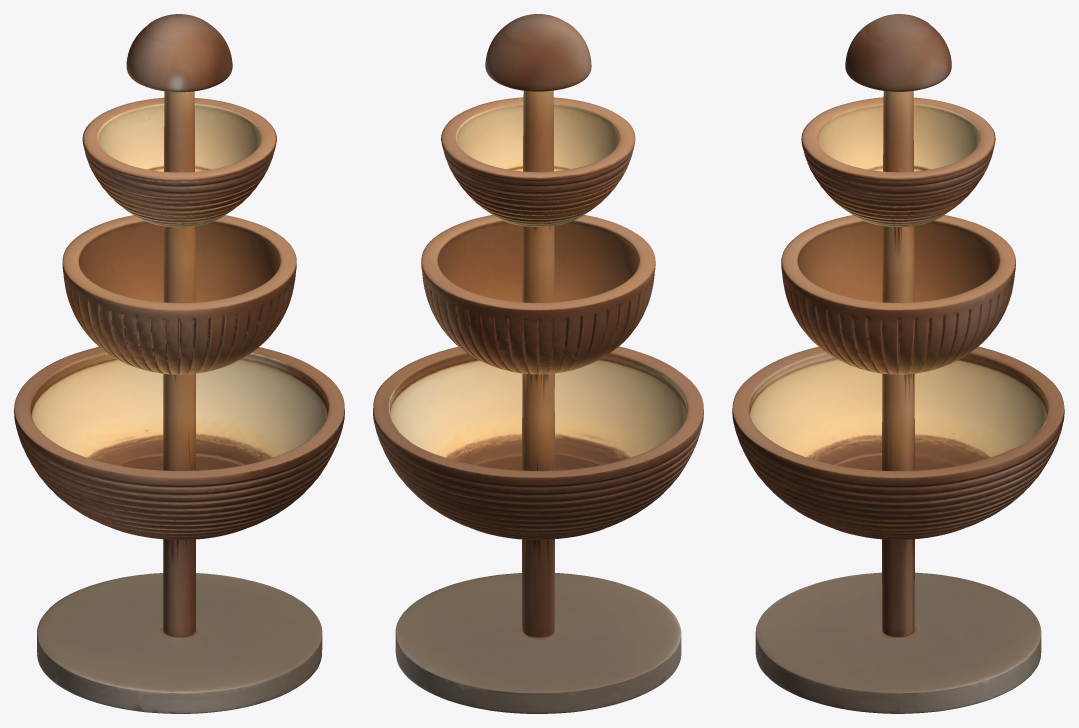
3 renders of one model, left to right at view 1: azimuth 30°, elevation 25°; view 2: azimuth 150°, elevation 25°; view 3: azimuth 270°, elevation 25°, orthographic.
Visible parts, largest first — view 1: tripo_node_62714cad-c4f1-4fe7-803d-b951c0590ccb; view 2: tripo_node_62714cad-c4f1-4fe7-803d-b951c0590ccb; view 3: tripo_node_62714cad-c4f1-4fe7-803d-b951c0590ccb.
Part boxes in pixels (x1,y1,x2,y2): tripo_node_62714cad-c4f1-4fe7-803d-b951c0590ccb: (14, 14, 344, 713); tripo_node_62714cad-c4f1-4fe7-803d-b951c0590ccb: (373, 14, 703, 713); tripo_node_62714cad-c4f1-4fe7-803d-b951c0590ccb: (732, 14, 1064, 713).
Bounding box in the file's own units: 0.4628 × 0.9793 × 0.4634.
Materials: 1 (1 with a texture image).
